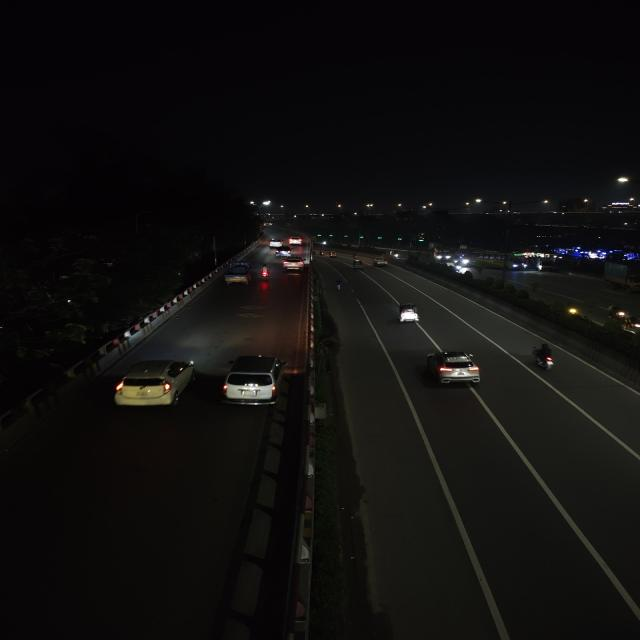bus: (469, 249, 527, 273), (432, 245, 452, 262)
car: (110, 354, 203, 414), (220, 356, 287, 410), (422, 348, 482, 388), (279, 255, 309, 274), (273, 245, 294, 257), (287, 236, 306, 246)
cng: (394, 301, 426, 330), (327, 248, 340, 260), (351, 260, 364, 270)
motorcycle: (530, 338, 563, 377), (604, 302, 628, 322), (258, 262, 272, 283)
pickup_van: (222, 262, 254, 290)
truck: (602, 260, 640, 294), (534, 258, 557, 272), (371, 256, 390, 267)
